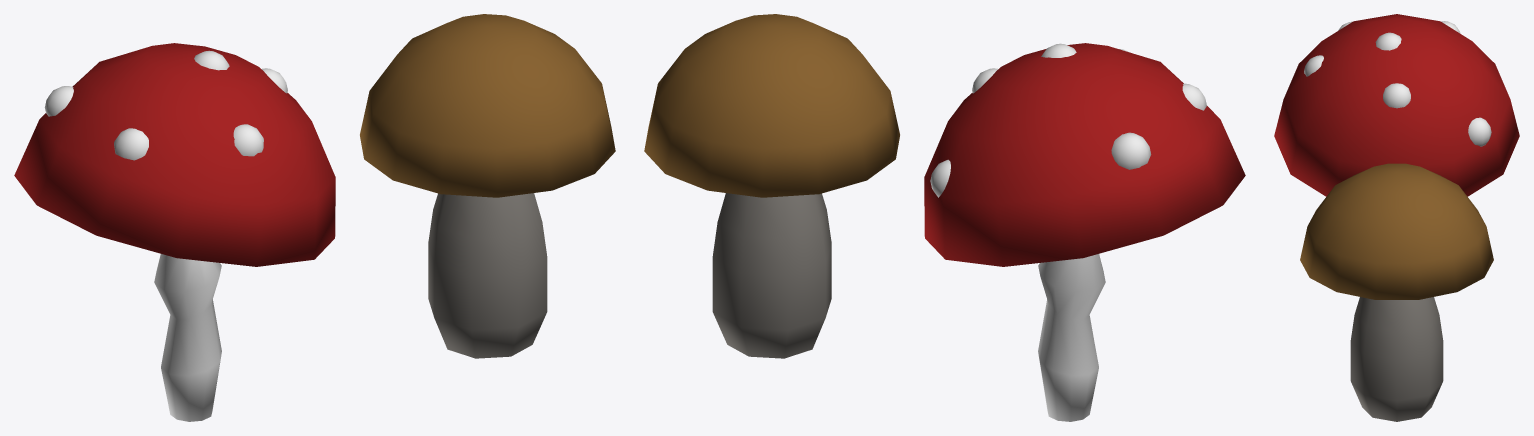
File: Mashroom.fbx
The picture shows the model from 3 angles, left to right: view 1: azimuth 30°, elevation 25°; view 2: azimuth 150°, elevation 25°; view 3: azimuth 270°, elevation 25°; orthographic projection. The views are drawn at different scales.
Parts seen in each view (by area): view 1: Mashroom_3, Mashroom_1, Mashroom, Mashroom_2, Mashroom_9, Mashroom_6, Mashroom_7; view 2: Mashroom_3, Mashroom_1, Mashroom, Mashroom_2, Mashroom_7; view 3: Mashroom_3, Mashroom_1, Mashroom, Mashroom_4, Mashroom_5, Mashroom_8, Mashroom_6.
Boxes of the visible parts, x1,y1,x2,y2 form: Mashroom_3: [14, 43, 335, 266]; Mashroom_1: [360, 14, 615, 197]; Mashroom: [428, 193, 547, 358]; Mashroom_2: [154, 254, 221, 421]; Mashroom_9: [114, 128, 148, 160]; Mashroom_6: [233, 124, 263, 156]; Mashroom_7: [44, 86, 73, 116]; Mashroom_3: [924, 43, 1245, 266]; Mashroom_1: [644, 14, 899, 197]; Mashroom: [712, 193, 831, 358]; Mashroom_2: [1038, 254, 1105, 421]; Mashroom_7: [1111, 132, 1151, 169]; Mashroom_3: [1274, 14, 1519, 196]; Mashroom_1: [1300, 163, 1493, 299]; Mashroom: [1350, 297, 1443, 421]; Mashroom_4: [1383, 83, 1410, 108]; Mashroom_5: [1468, 117, 1491, 146]; Mashroom_8: [1375, 32, 1401, 50]; Mashroom_6: [1304, 55, 1323, 76].
Bounding box in the file's own units: 0.7307 × 0.3704 × 0.4493.
